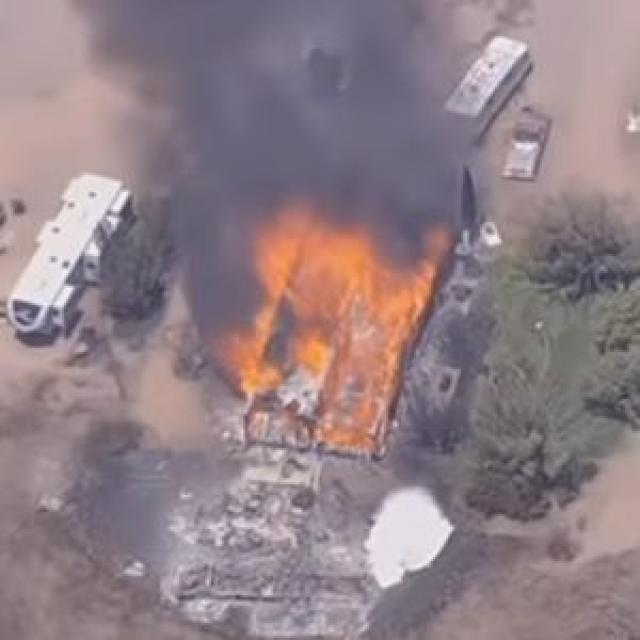Fire: (245, 216, 472, 426)
Smoke: (127, 0, 475, 369)
